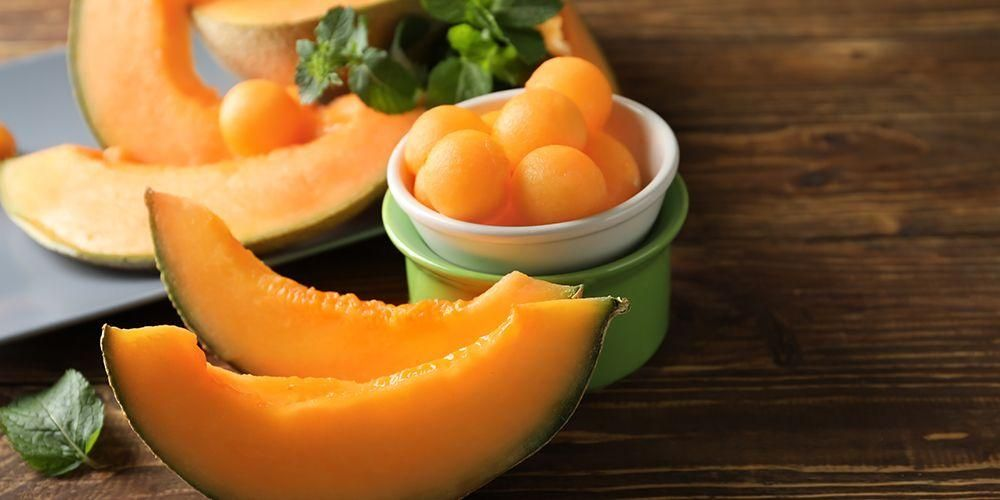Melon: (113, 312, 626, 496), (138, 188, 576, 378), (4, 128, 406, 242)
